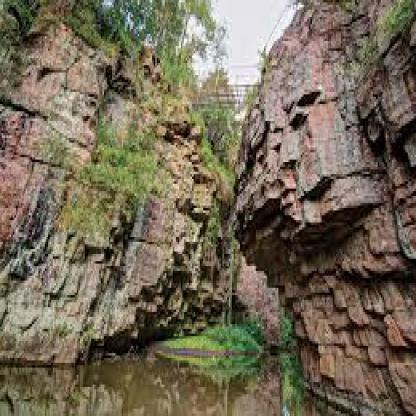Metamorphic_Quartize: (260, 0, 354, 240)
